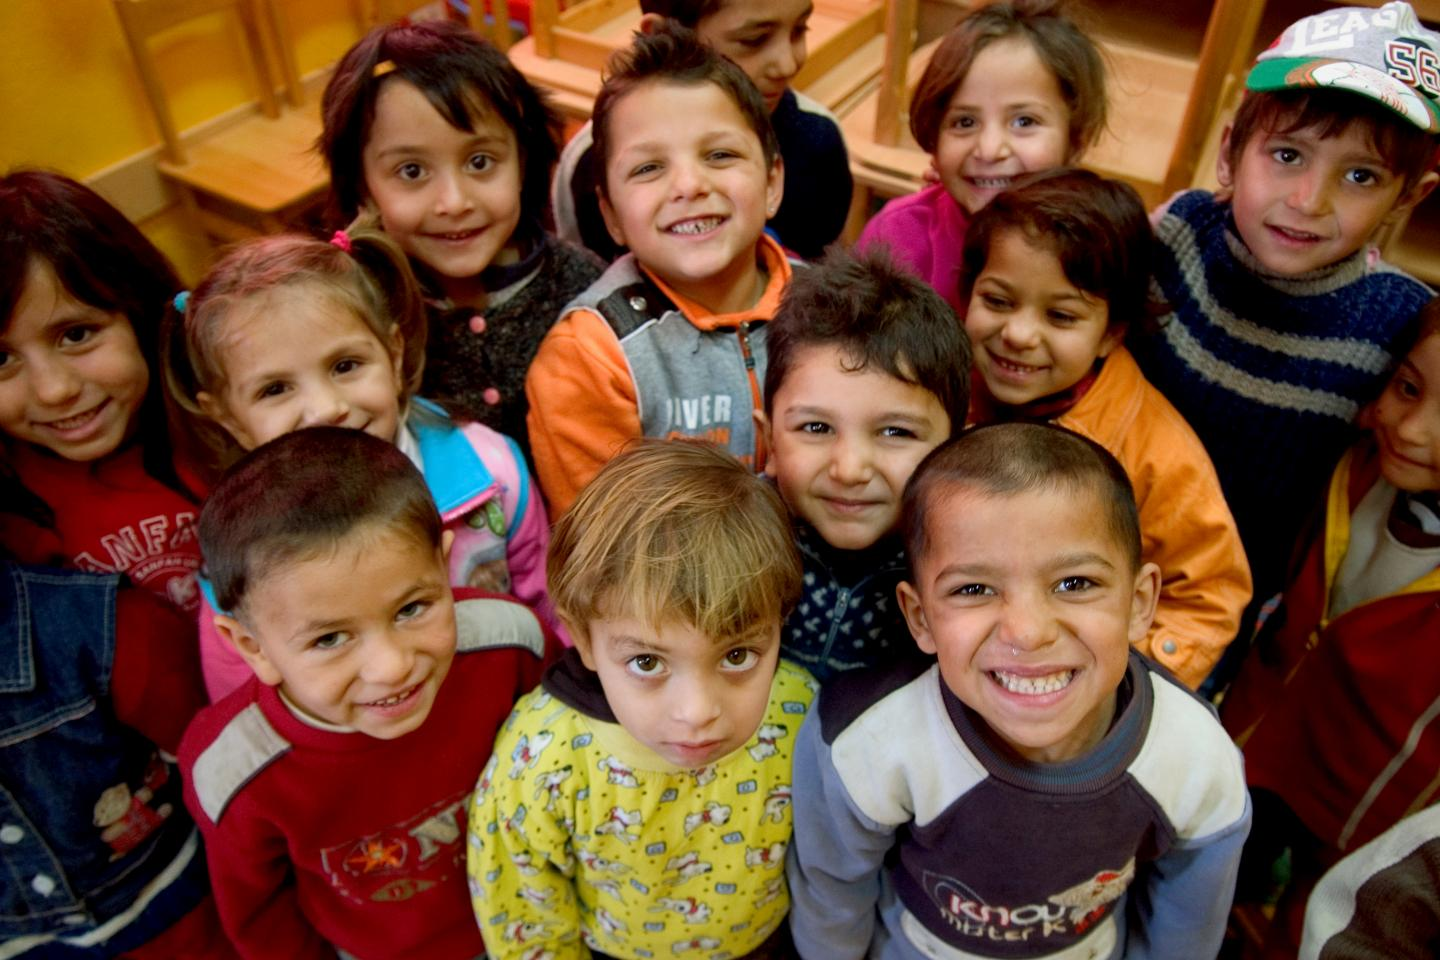human: (800, 430, 1275, 960), (182, 430, 546, 960), (924, 143, 1278, 666), (163, 212, 559, 645), (490, 436, 788, 960), (1169, 7, 1432, 564), (285, 6, 585, 450), (531, 44, 792, 510), (745, 227, 981, 726), (1, 129, 212, 649), (857, 13, 1137, 292)
